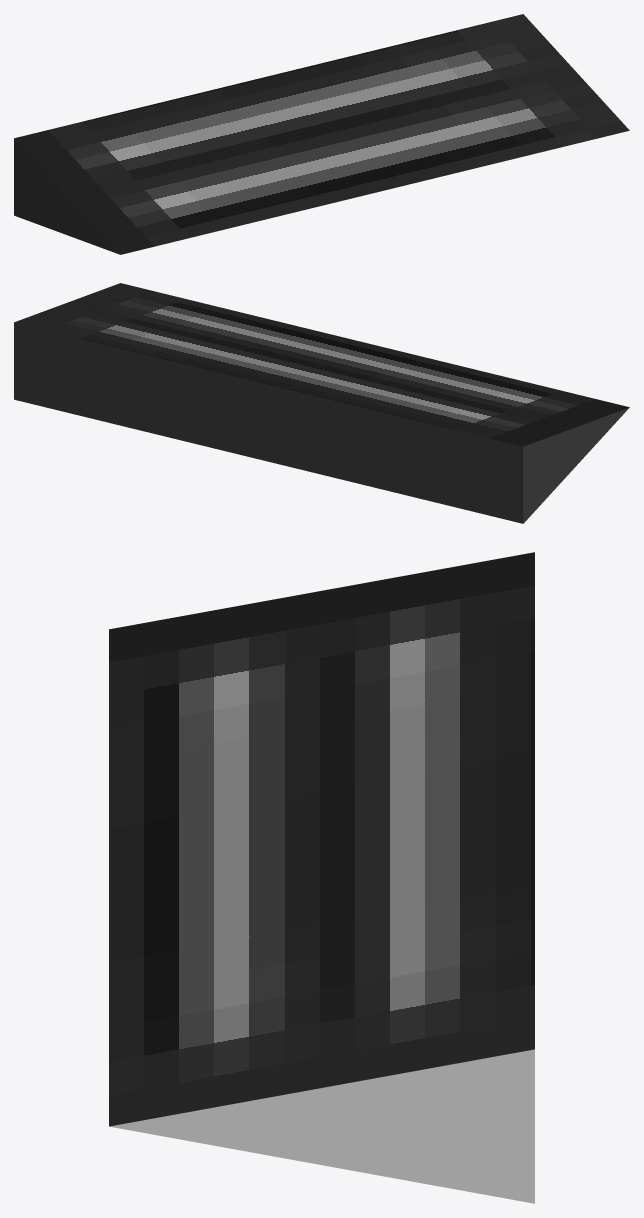
Rendered from primary_033.glb.
3 views of the same model, one above another, from view 1: azimuth 30°, elevation 25°; view 2: azimuth 150°, elevation 25°; view 3: azimuth 270°, elevation 25° (orthographic). The views are drawn at different scales.
Parts seen in each view (by area): view 1: Object; view 2: Object; view 3: Object.
Part boxes in pixels (left/top/right/bottom): Object: left=14, top=14, right=629, bottom=254; Object: left=14, top=283, right=629, bottom=523; Object: left=109, top=552, right=534, bottom=1203.
Bounding box in the file's own units: 0.1561 × 0.0226 × 0.0566.
3 materials, 3 textured.
